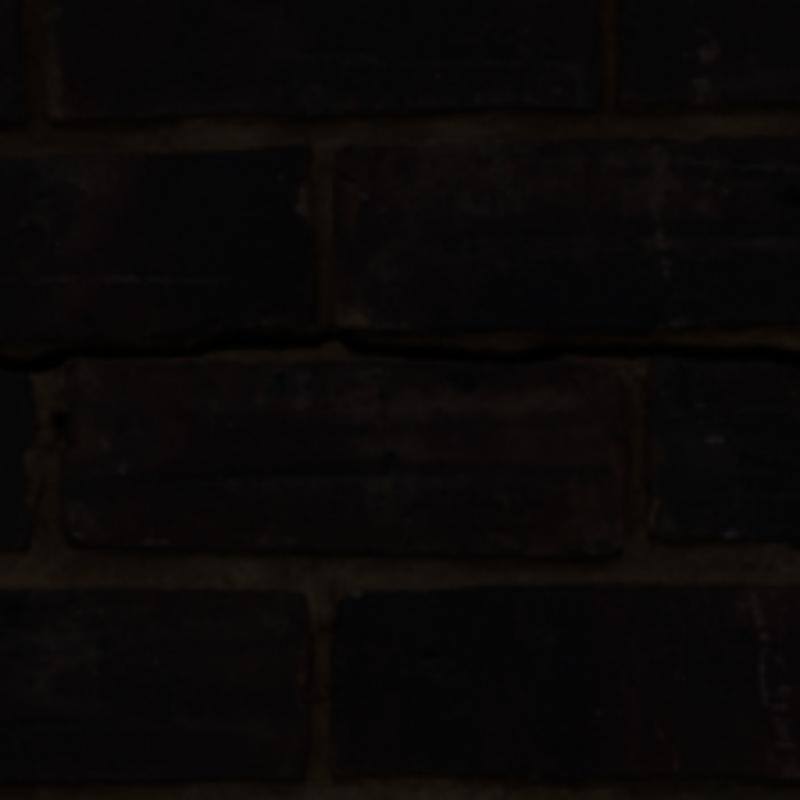pothole: (0, 329, 796, 368)
